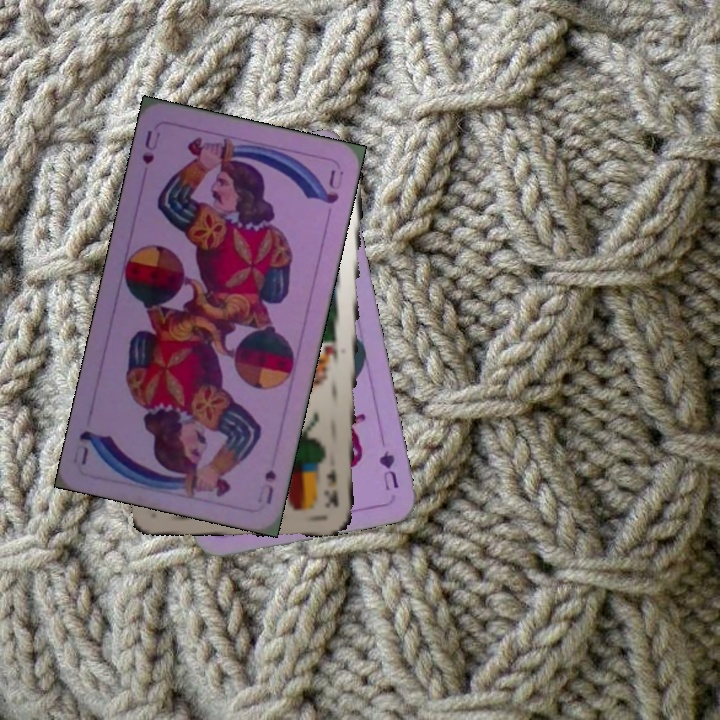EK: (324, 465, 341, 509)
GU: (375, 446, 401, 494)
SU: (253, 466, 279, 507), (138, 126, 163, 167)
